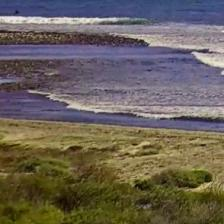surfer: (13, 10, 20, 15)
